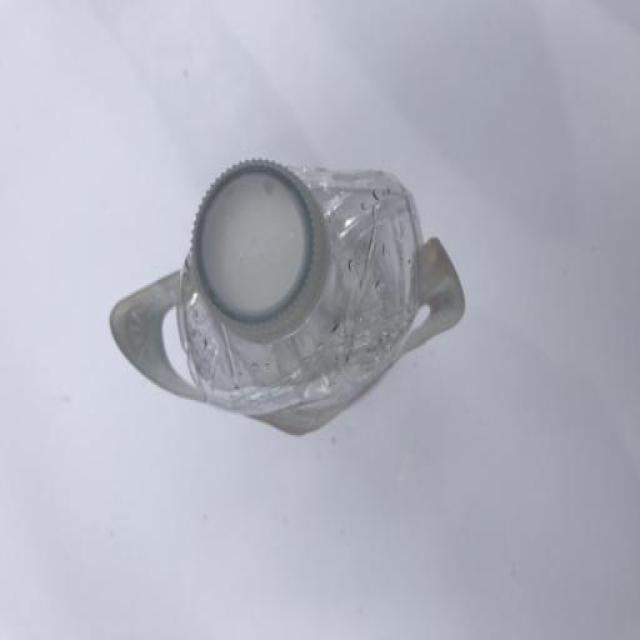plastic: (107, 155, 465, 435)
